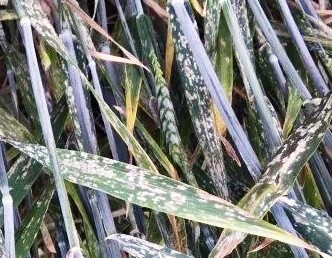Powdery Mildew: (175, 46, 227, 173), (262, 99, 328, 184)
